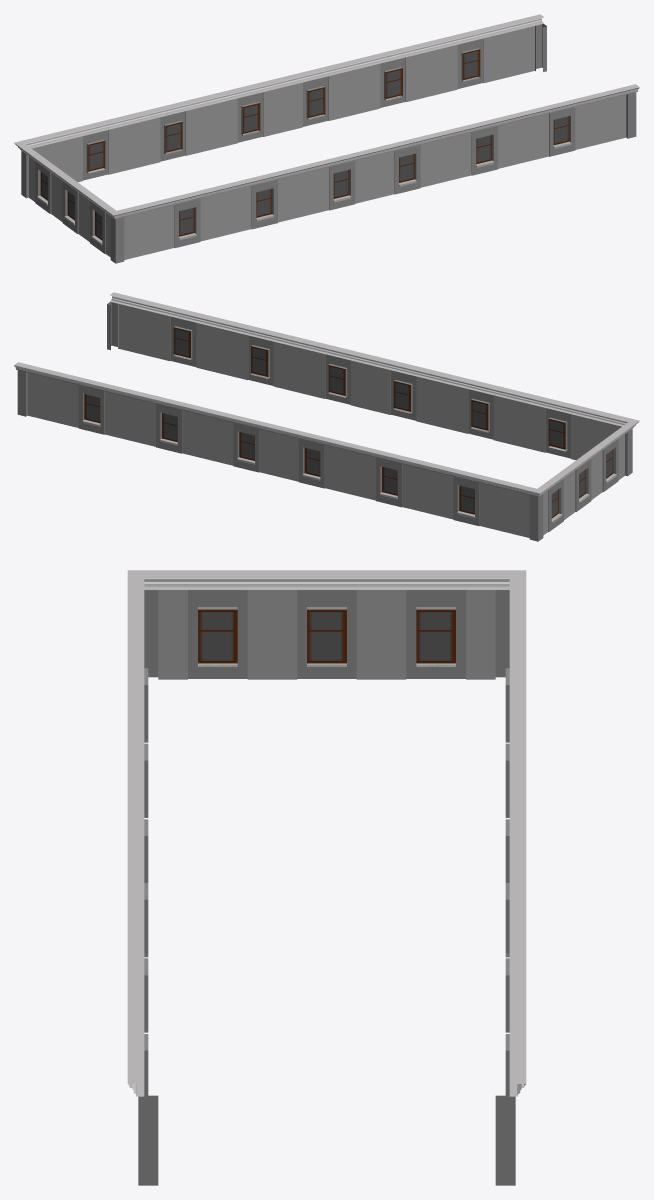
File: BuildingSmall4_2.fbx
The picture shows the model from 3 angles, top to bottom: view 1: azimuth 30°, elevation 25°; view 2: azimuth 150°, elevation 25°; view 3: azimuth 270°, elevation 25°; orthographic projection. The views are drawn at different scales.
Visible parts, largest first — view 1: BuildingSmall4_2; view 2: BuildingSmall4_2; view 3: BuildingSmall4_2.
Boxes of the visible parts, x1,y1,x2,y2 form: BuildingSmall4_2: [14, 14, 639, 263]; BuildingSmall4_2: [14, 292, 639, 541]; BuildingSmall4_2: [127, 570, 526, 1185].
Size of the model in its own units: 6124 by 569 by 2008.
